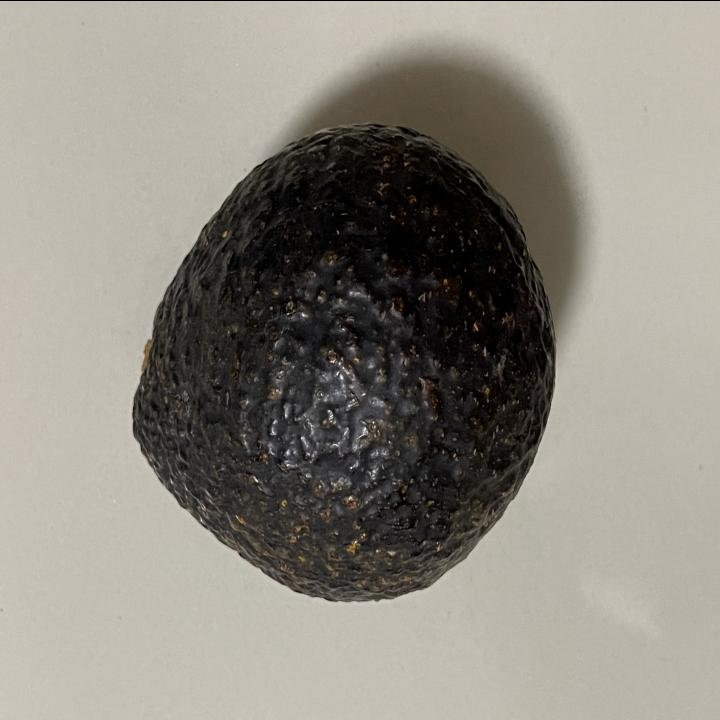Level2: (123, 112, 561, 610)
